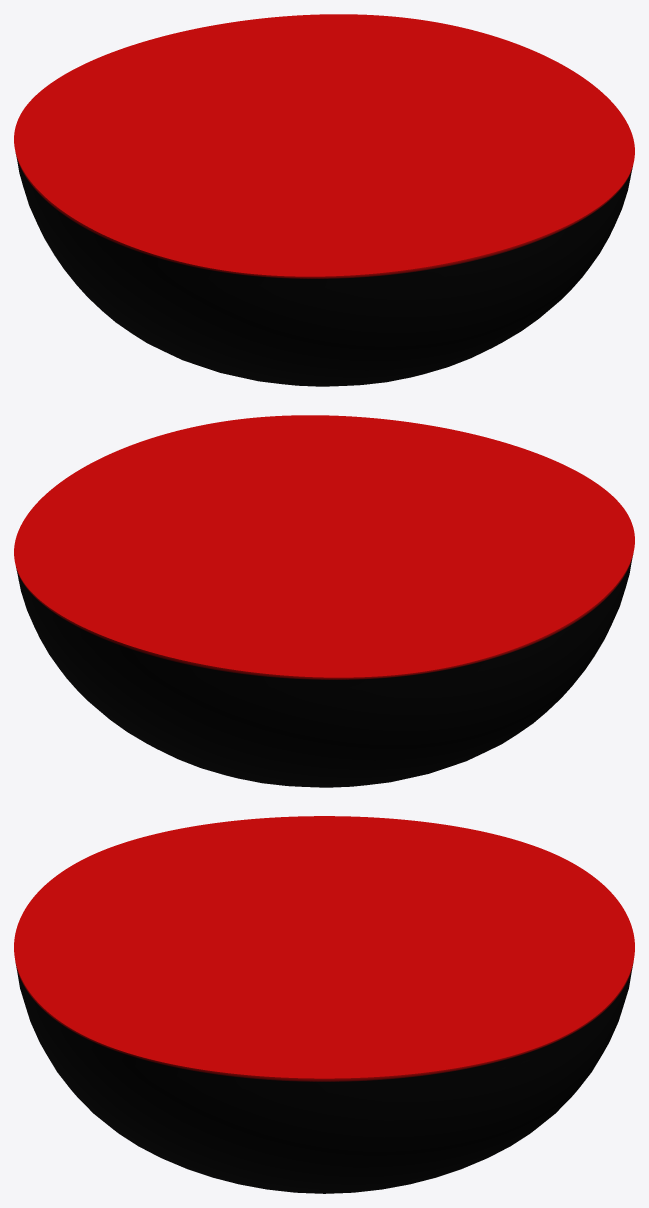
Rendered from Fbx_IslandWater.FBX.
The picture shows the model from 3 angles, top to bottom: view 1: azimuth 30°, elevation 25°; view 2: azimuth 150°, elevation 25°; view 3: azimuth 270°, elevation 25°; orthographic projection.
Parts seen in each view (by area): view 1: WaterDomeSquash; view 2: WaterDomeSquash; view 3: WaterDomeSquash.
Boxes of the visible parts, x1,y1,x2,y2 form: WaterDomeSquash: (14, 14, 634, 386); WaterDomeSquash: (14, 415, 634, 787); WaterDomeSquash: (14, 816, 634, 1193).
Bounding box in the file's own units: 840 × 306 × 840.
